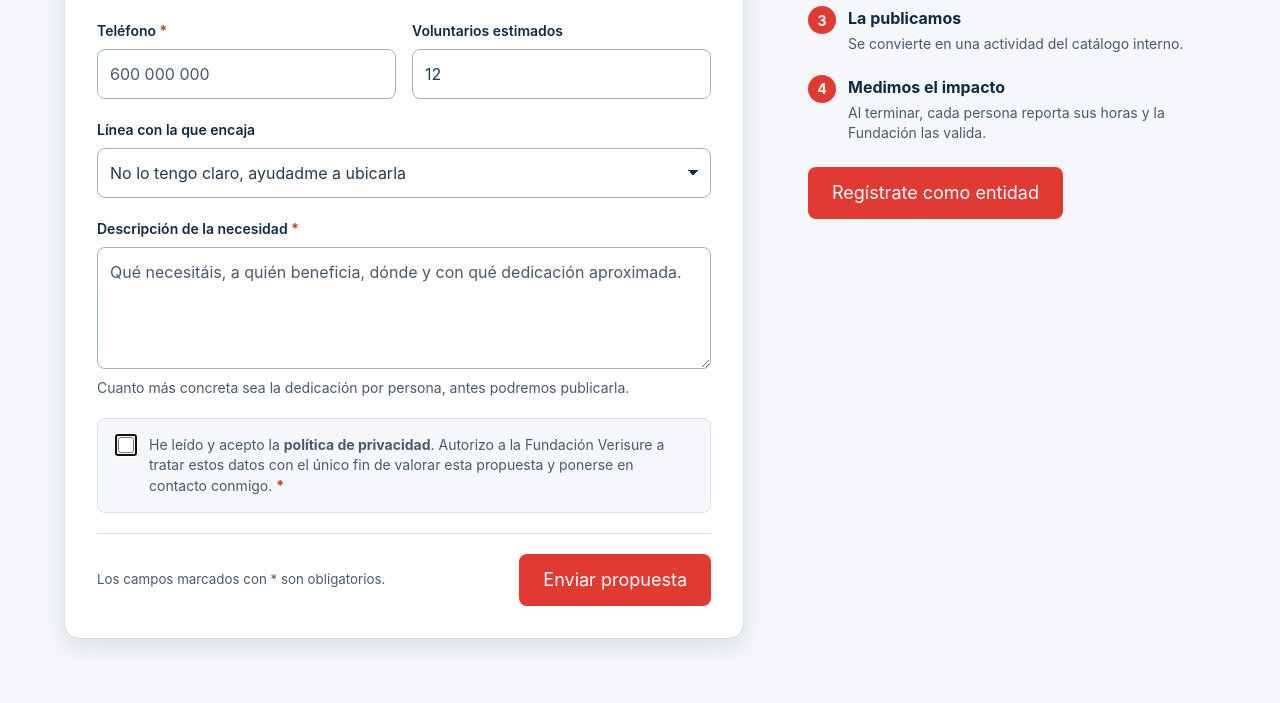
Test: ProposalForm › valida el consentimiento por campo al perder el foco
The image size is (1280, 703).
(page scrolled)
Expected: the text "Debes aceptar la política de privacidad." is not shown
Press Tab
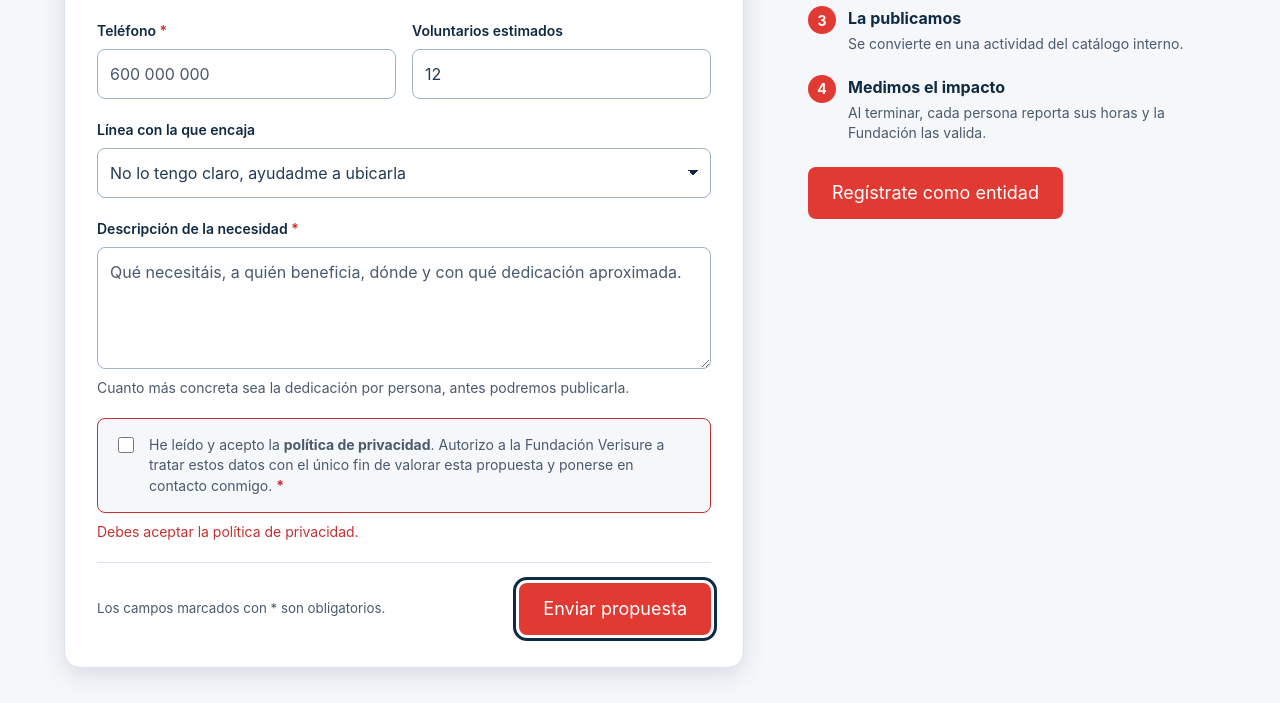
Now the text "Debes aceptar la política de privacidad." is shown, box [97,523,359,540]
Click the checkbox labelled "He leído y acepto". click: click(126, 446)
box: [118,438,134,454]
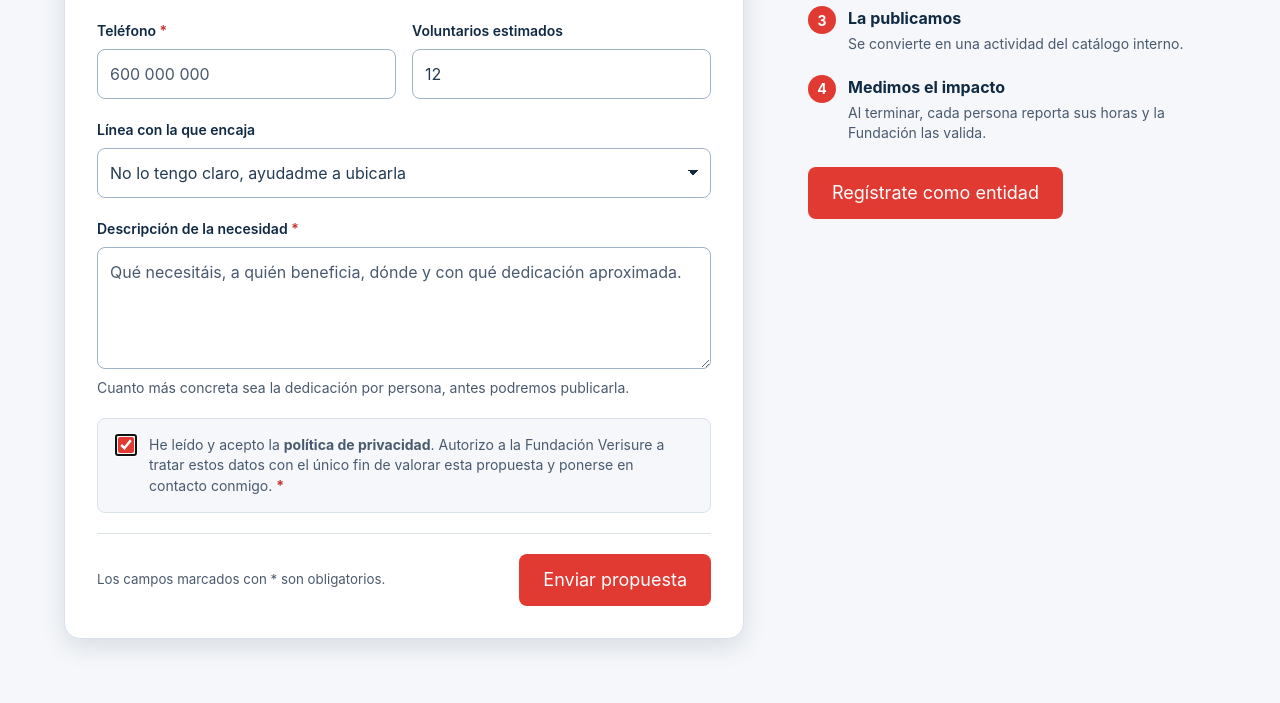
Now the text "Debes aceptar la política de privacidad." is gone
